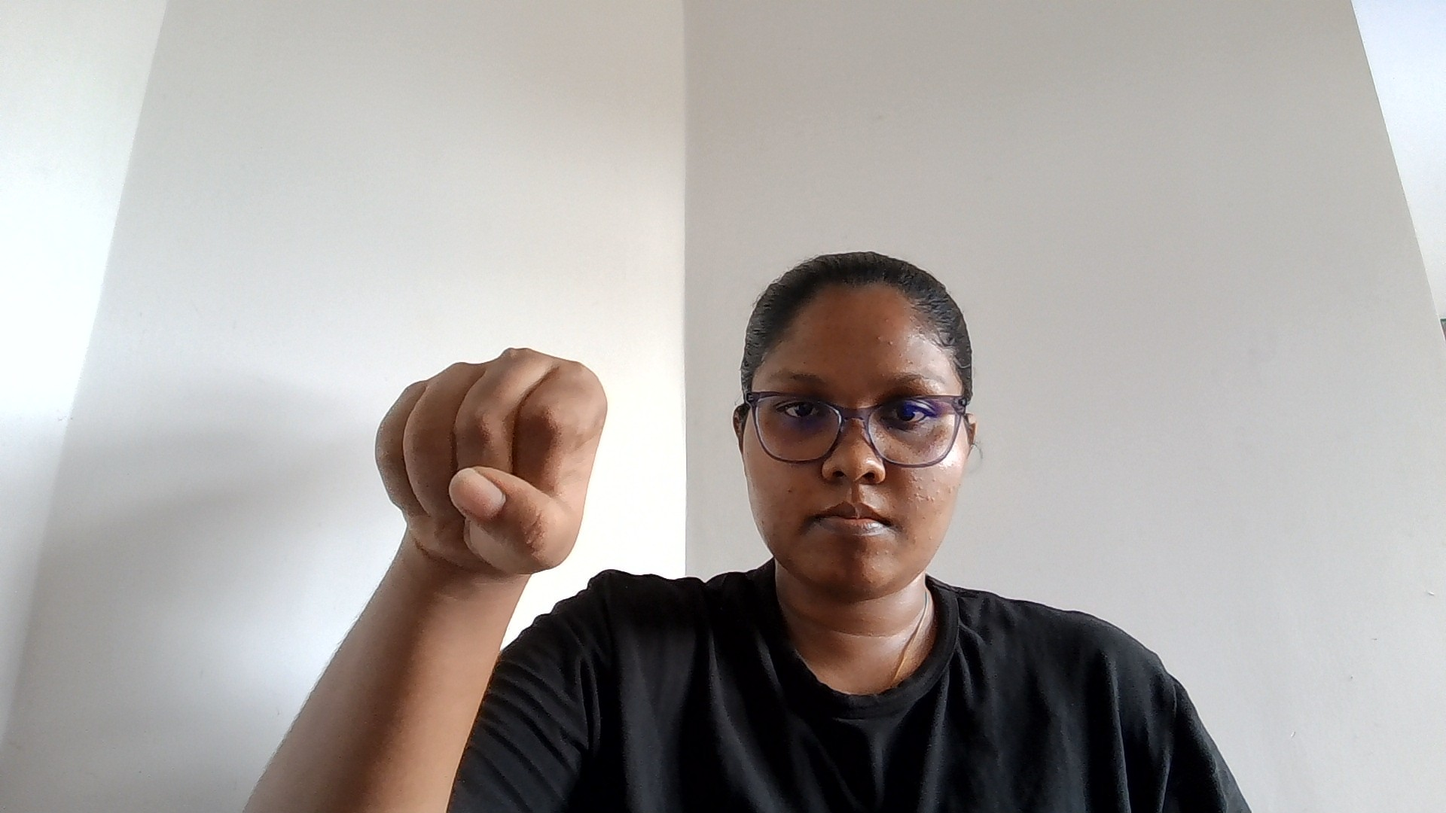Yes: (326, 292, 629, 612)
